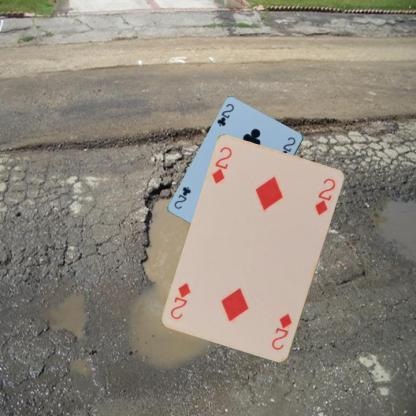2c: (214, 101, 235, 128)
2d: (269, 311, 294, 352), (209, 144, 233, 186)
